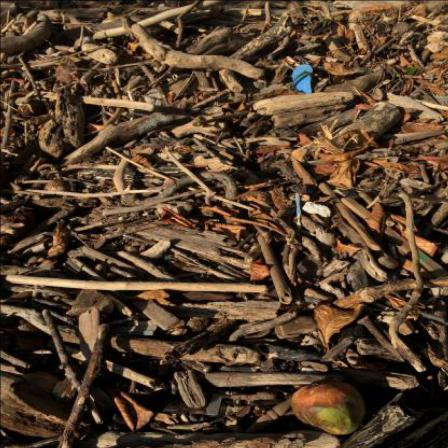Other plastic: (293, 65, 314, 95), (296, 195, 302, 231)
Styrofoam piece: (303, 203, 331, 219)
